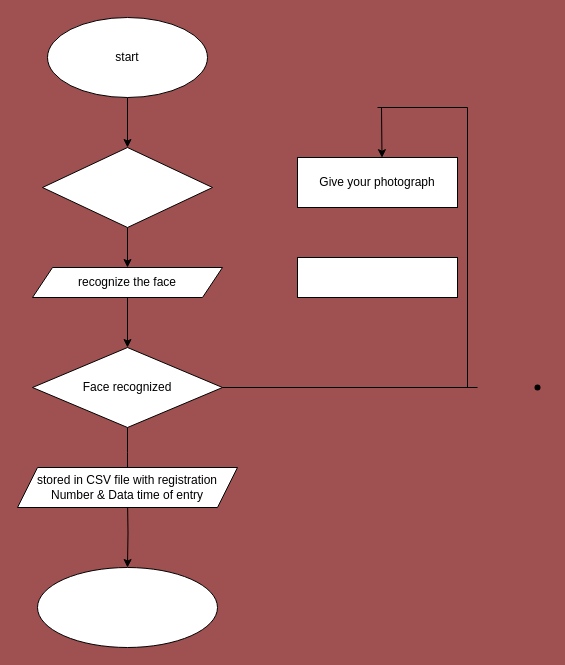
Image size: 565x665. Some labels were removed from this diagram. The shapes that lost their labels are listed below. From the top down, each one's centre as x and y in pixels, then its label:
point (127, 187): New user?
point (377, 277): store the face data in floder on your name
point (127, 607): End
